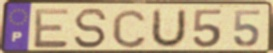5: (191, 8, 224, 49), (231, 8, 261, 49)
C: (111, 7, 149, 50)
E: (32, 8, 71, 51)
S: (72, 7, 109, 50)
U: (148, 7, 188, 50)
